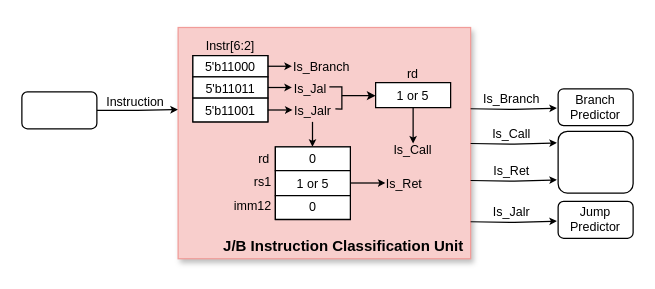
This 655x289 diagram has some shape labels left out. The shapes that lost their labels are listed below. From the top down, each one's centre as x and y in pixels, then its label:
the point at 59,110: Instruction Buffer
the point at 595,161: RAS
